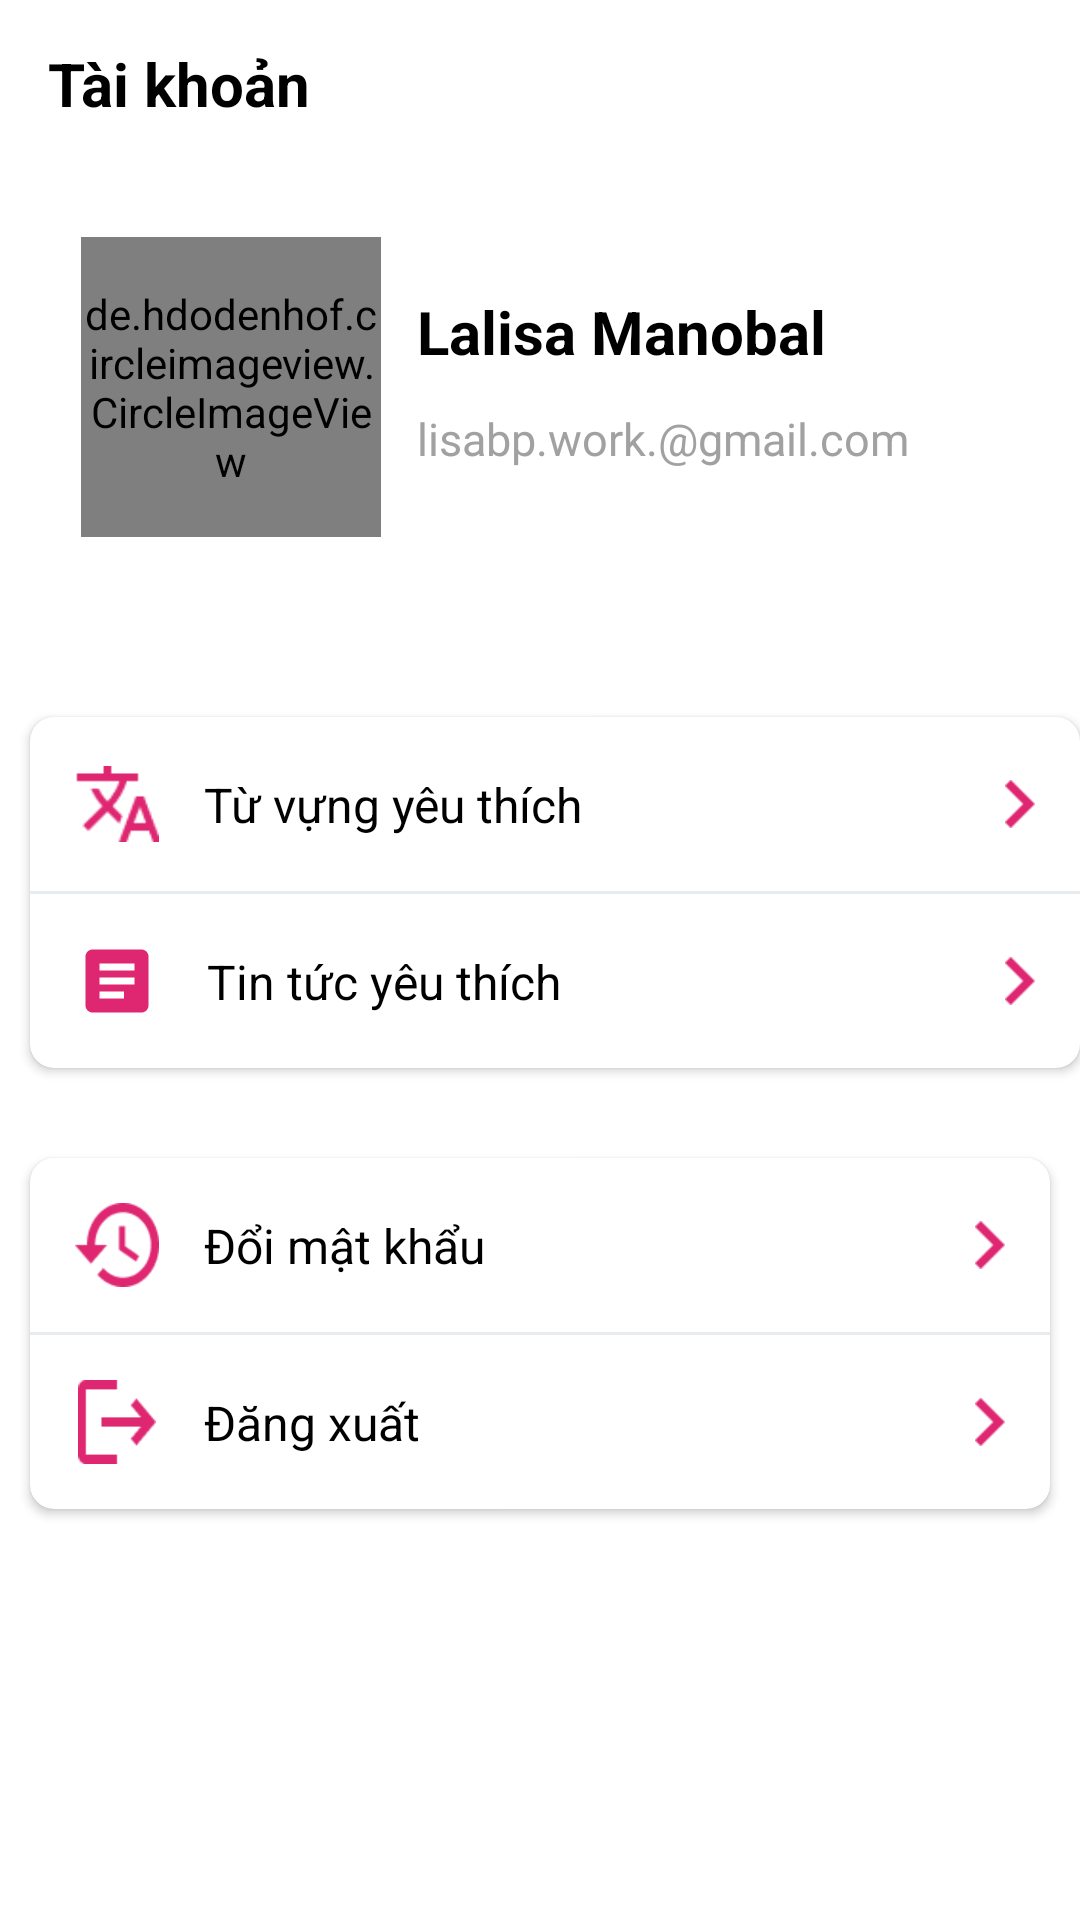

Where icons sit on this 1080x1920 app screen, as (x1, y1, x2, y2):
article: (85, 949, 149, 1013)
